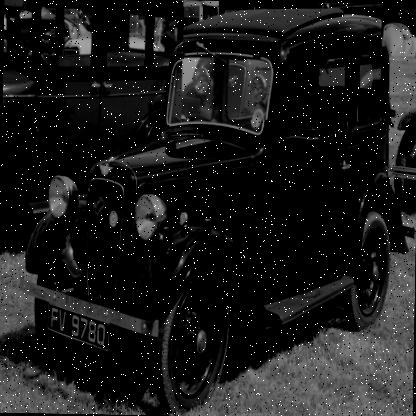Car: (21, 10, 415, 415), (0, 0, 192, 223), (180, 0, 382, 123), (388, 96, 415, 210)
